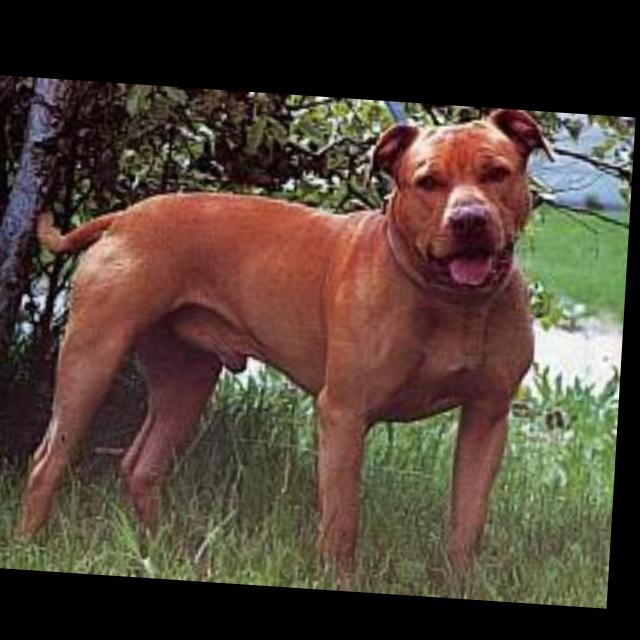staffford: (18, 78, 561, 586)
